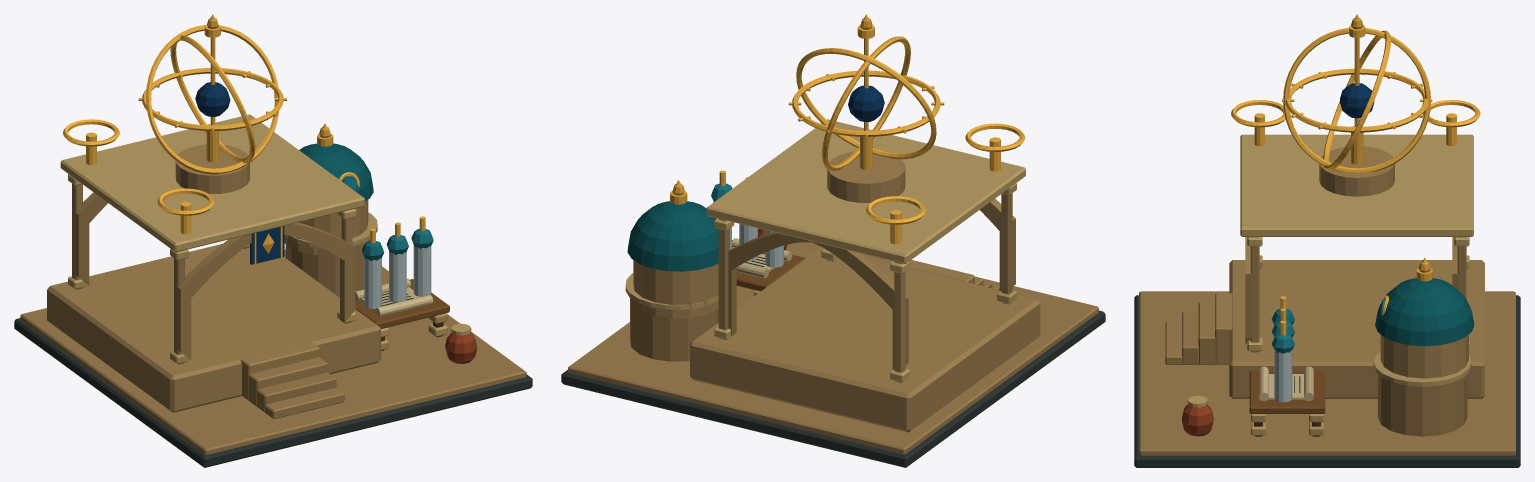
3 renders of one model, left to right at view 1: azimuth 30°, elevation 25°; view 2: azimuth 150°, elevation 25°; view 3: azimuth 270°, elevation 25°, orthographic. The views are drawn at different scales.
Visible parts, largest first — view 1: laboratory_level5_structure, laboratory_level5_metal; view 2: laboratory_level5_structure, laboratory_level5_metal; view 3: laboratory_level5_structure, laboratory_level5_metal.
Boxes of the visible parts, x1,y1,x2,y2 form: laboratory_level5_structure: [14, 18, 532, 467]; laboratory_level5_metal: [63, 14, 425, 263]; laboratory_level5_structure: [561, 18, 1105, 467]; laboratory_level5_metal: [670, 14, 1025, 244]; laboratory_level5_structure: [1134, 18, 1520, 467]; laboratory_level5_metal: [1231, 14, 1480, 335].
Size of the model in its own units: 5.6 by 5.61 by 5.6.
